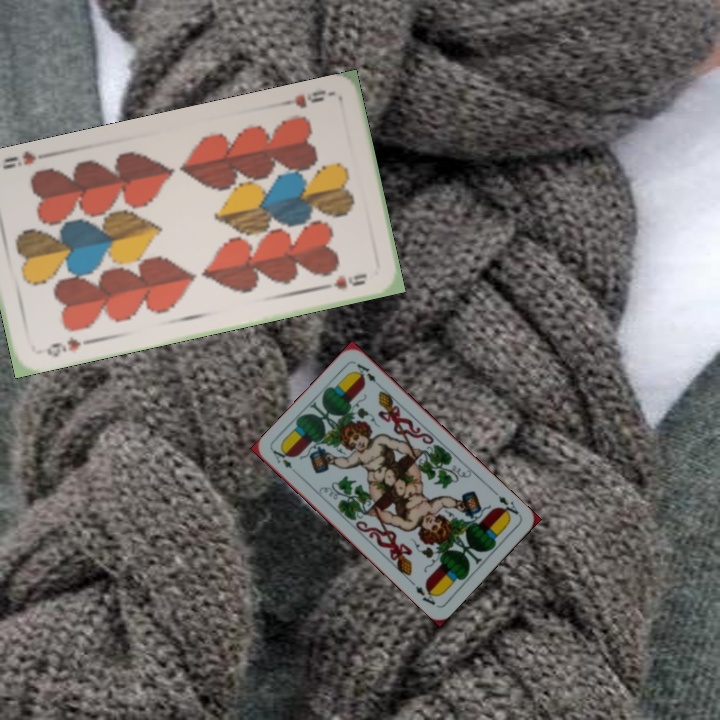EA: (494, 492, 523, 521), (269, 445, 295, 471)
H9: (276, 85, 335, 111), (42, 332, 83, 360)
